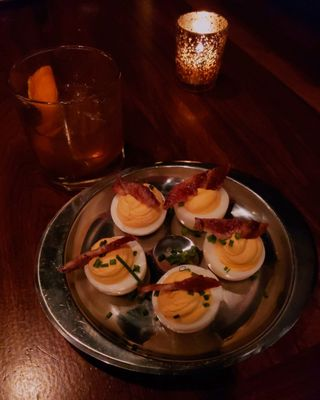pizza: (8, 45, 126, 191), (174, 11, 230, 92)
